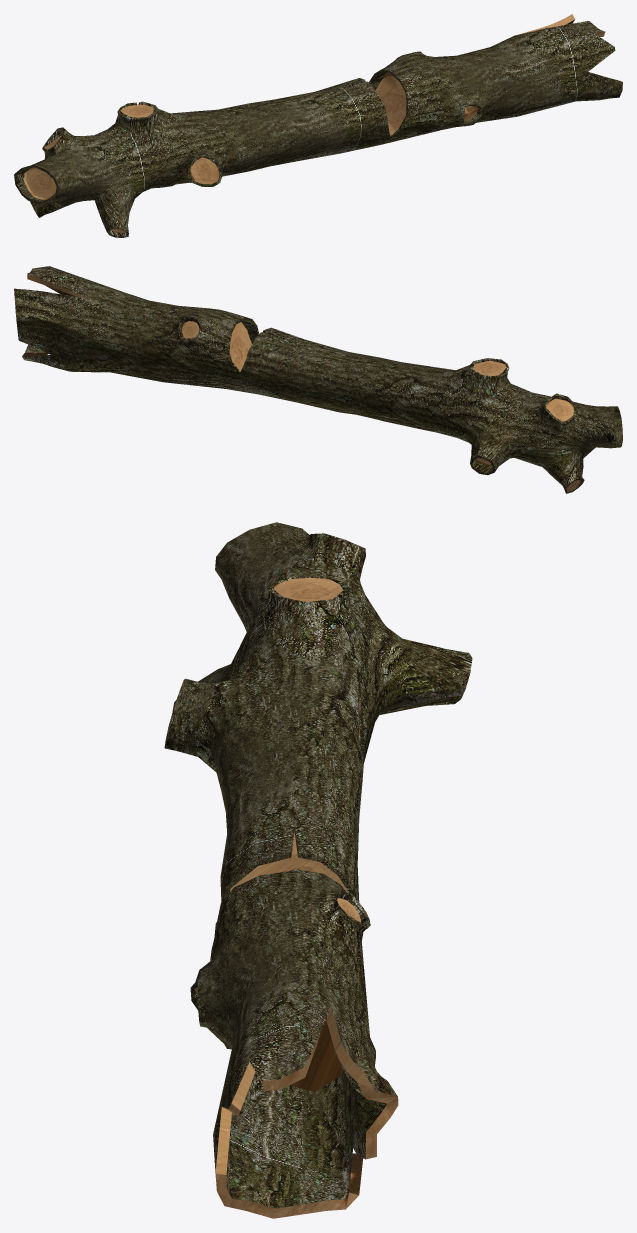
The model's file is Log.FBX.
3 views of the same model, one above another, from view 1: azimuth 30°, elevation 25°; view 2: azimuth 150°, elevation 25°; view 3: azimuth 270°, elevation 25° (orthographic). The views are drawn at different scales.
Visible parts, largest first — view 1: Log; view 2: Log; view 3: Log.
Part boxes in pixels (<box>): Log: <box>14,14,622,237</box>; Log: <box>14,266,622,493</box>; Log: <box>164,522,472,1218</box>.
Bounding box in the file's own units: 76.78 × 12.43 × 17.52.
2 materials, 2 textured.
